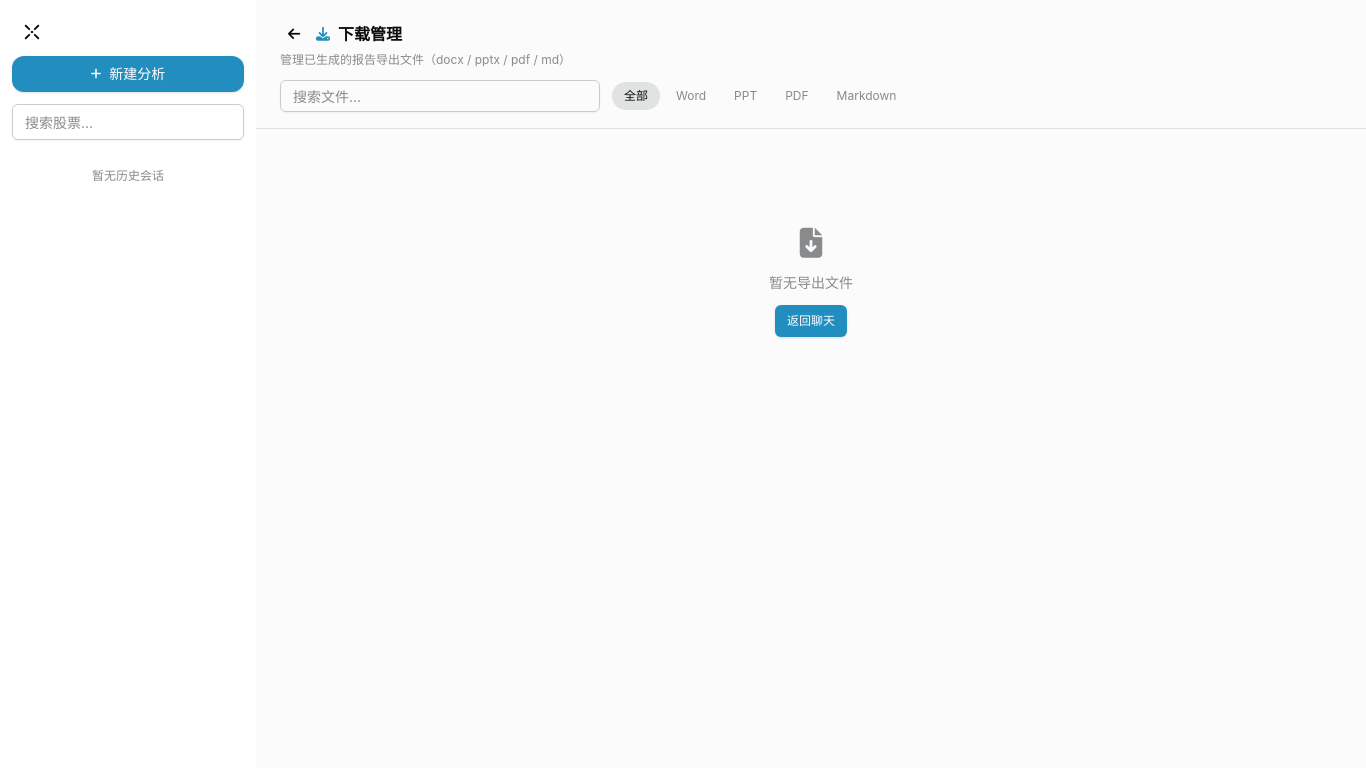
Test: 下载中心页面（add-download-center Task 2） › 全页视图下点击「新建分析」应回聊天首页（bug 复现）
Expected: the element with test id "downloads-empty" is shown, x1=769 y1=225 x2=853 y2=337
# 侧边栏「新建分析」按钮:任何页面都应收敛回首页聊天
Click the button with test id "sidebar-new". click: x=128, y=74
box: x1=12 y1=56 x2=244 y2=92
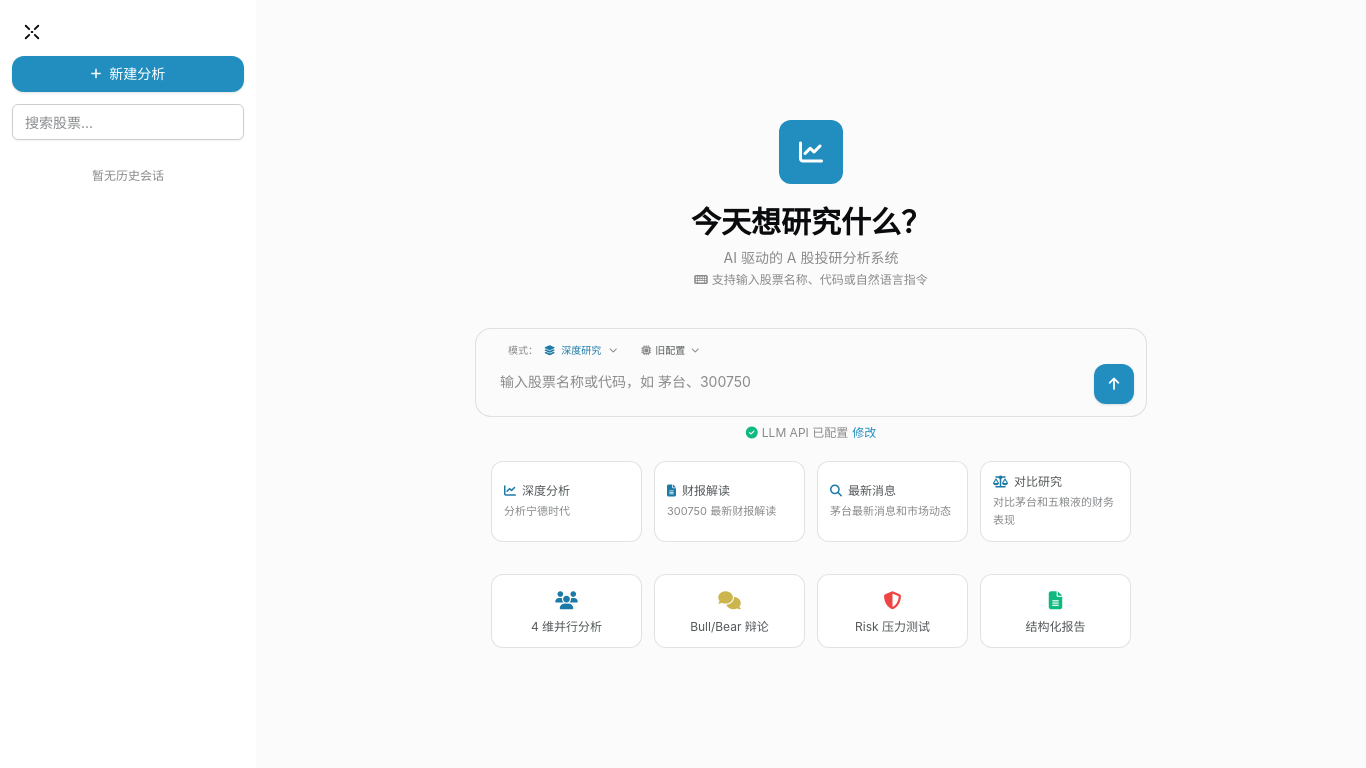
Result: the heading "今天想研究什么？" is shown at x1=691 y1=204 x2=931 y2=240
